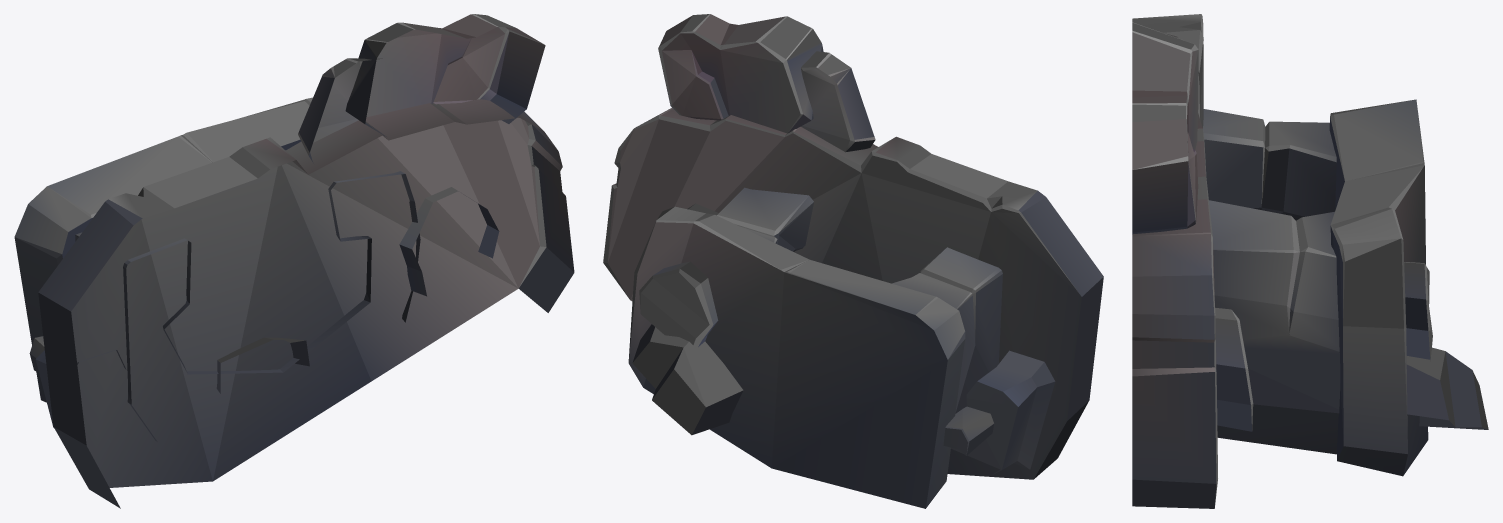
Rendered from CaveC.fbx.
3 views of the same model, side by side, from view 1: azimuth 30°, elevation 25°; view 2: azimuth 150°, elevation 25°; view 3: azimuth 270°, elevation 25° (orthographic). The views are drawn at different scales.
Visible parts, largest first — view 1: caveC; view 2: caveC; view 3: caveC.
Part boxes in pixels (x1,y1,x2,y2): caveC: (14, 14, 574, 508); caveC: (603, 14, 1103, 508); caveC: (1132, 14, 1488, 508).
Bounding box in the file's own units: 790 × 633 × 382.
